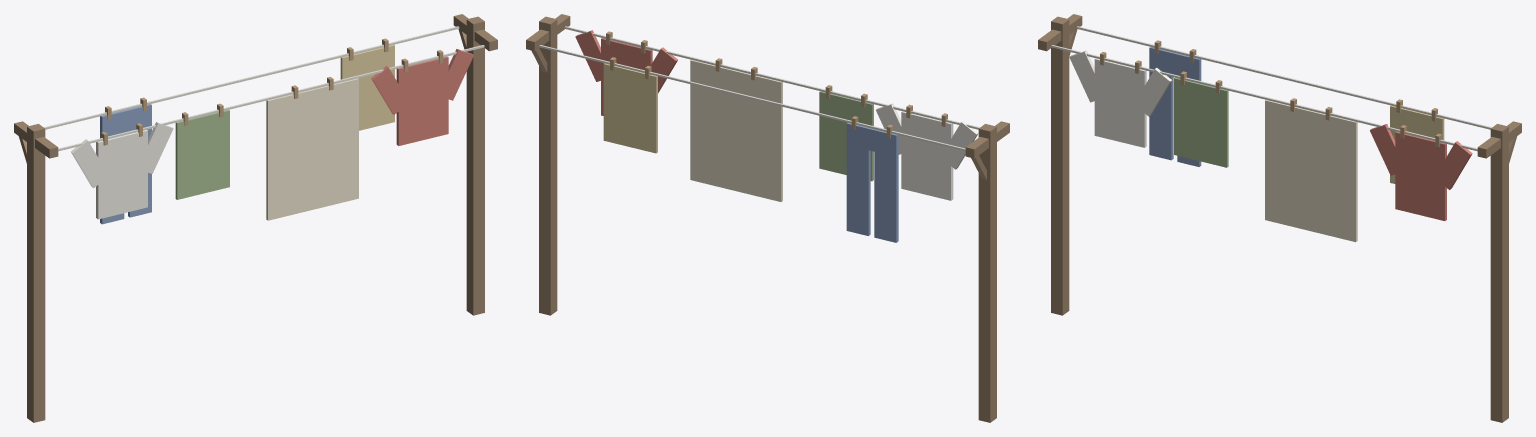
Rendered from washline_v2.glb.
3 views of the same model, side by side, from view 1: azimuth 30°, elevation 25°; view 2: azimuth 150°, elevation 25°; view 3: azimuth 330°, elevation 25° (orthographic).
Parts seen in each view (by area): view 1: washline; view 2: washline; view 3: washline.
Part boxes in pixels (box(x1,y1,x2,y2)): washline: box(14, 14, 497, 422); washline: box(526, 14, 1009, 422); washline: box(1038, 14, 1521, 422).
Bounding box in the file's own units: 3.08 × 1.9 × 0.42.
